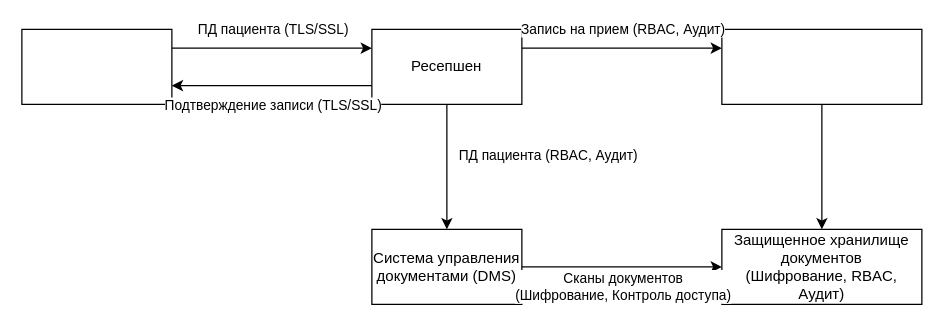
Some shapes in this 944 by 326 pixel diagram are drawn without their labels. Each missing label, with the centre of its shape:
CRM-система (Шифрование данных, Разграничение доступа): (x=821, y=66)
Пациент: (x=96, y=66)
